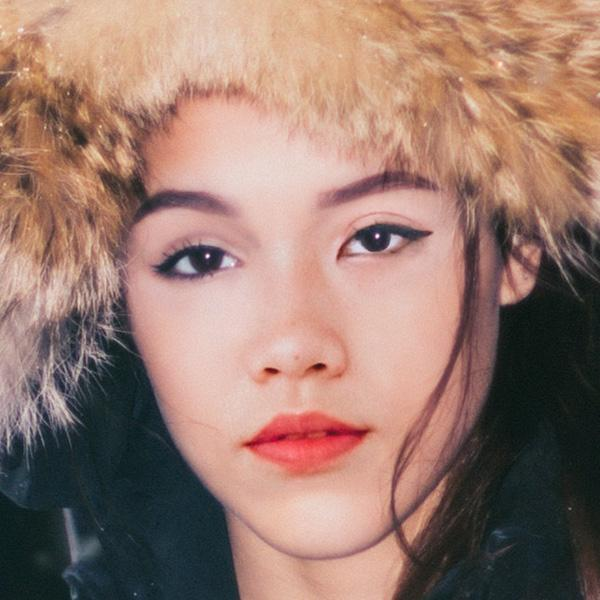Eyes: (328, 207, 436, 275), (146, 229, 252, 294)
